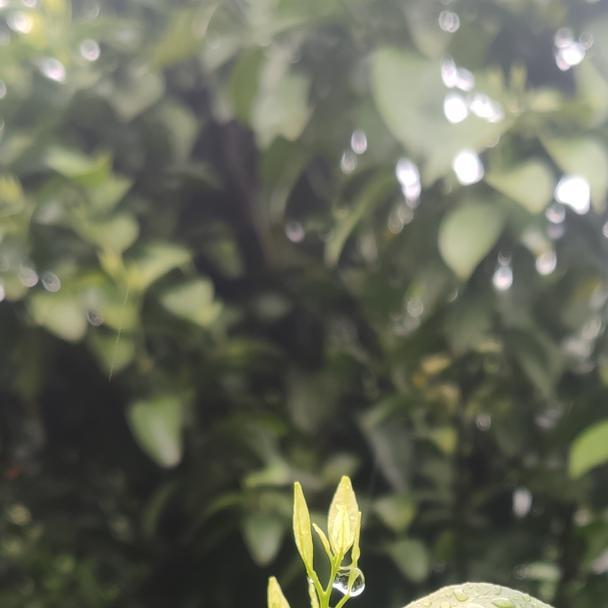shoot: (266, 477, 363, 608)
